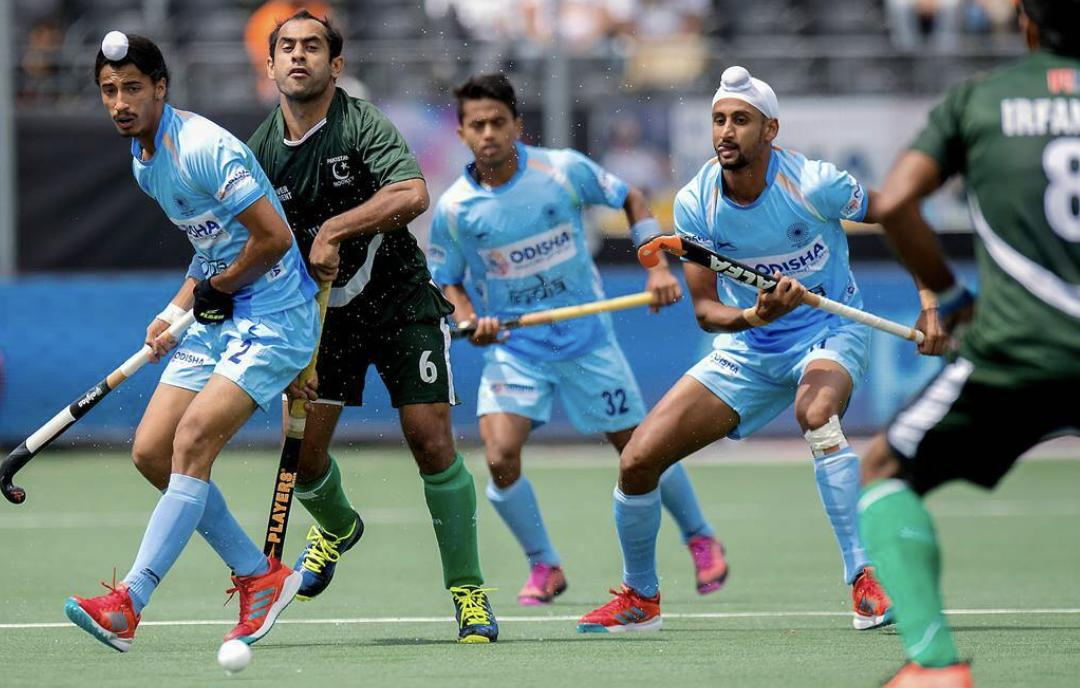ball: (213, 624, 253, 671)
